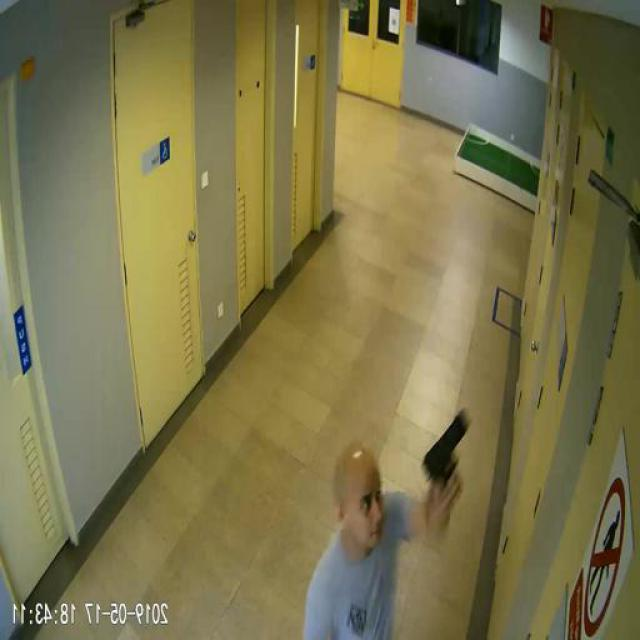Gun: (425, 408, 471, 494)
